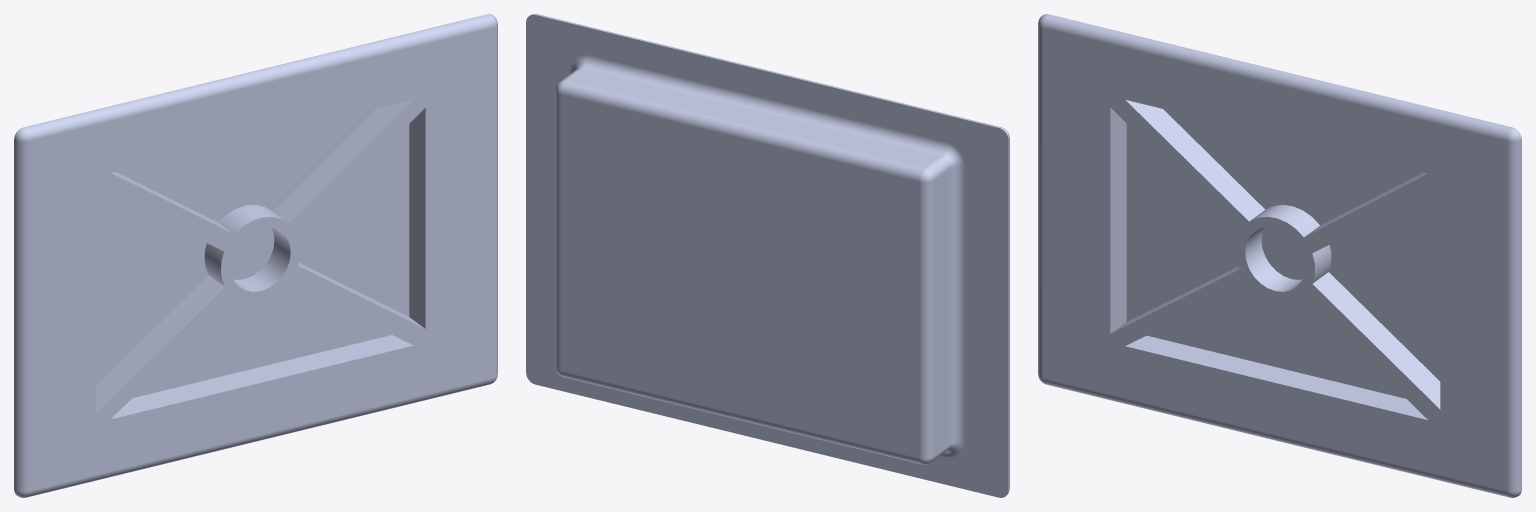
The model's file is Wall Cover.gltf.
The picture shows the model from 3 angles, left to right: view 1: azimuth 30°, elevation 25°; view 2: azimuth 150°, elevation 25°; view 3: azimuth 330°, elevation 25°; orthographic projection.
Parts seen in each view (by area): view 1: Wall Cover; view 2: Wall Cover; view 3: Wall Cover.
Boxes of the visible parts, left/top/right/bottom form: Wall Cover: left=14, top=14, right=497, bottom=497; Wall Cover: left=526, top=14, right=1009, bottom=497; Wall Cover: left=1038, top=14, right=1521, bottom=497.
Size of the model in its own units: 0.13 by 0.0952 by 0.0152.
